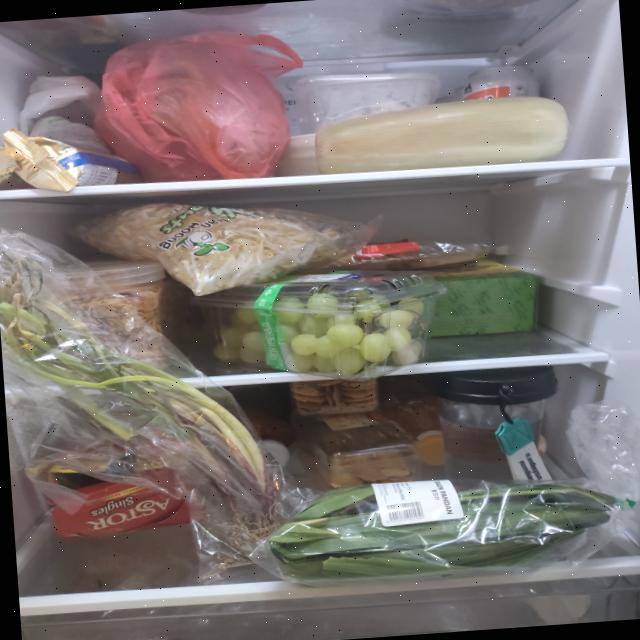bean_sprouts: (74, 190, 345, 304)
corn: (311, 91, 571, 176)
leafy_greens: (264, 466, 622, 585)
spring_onion: (0, 233, 283, 582)
unknown_bag: (87, 24, 311, 190)
